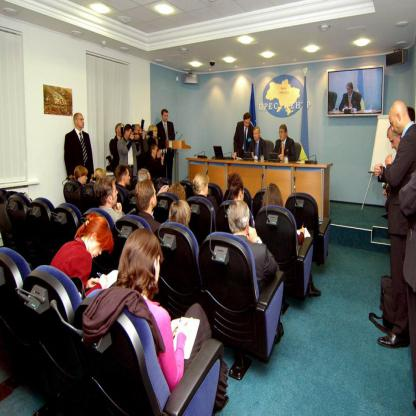face: (145, 251, 161, 288), (89, 238, 106, 259), (390, 113, 401, 135), (390, 134, 401, 152), (110, 185, 119, 206), (151, 186, 158, 207), (124, 171, 131, 186), (82, 172, 89, 185), (78, 115, 85, 128), (204, 183, 210, 198), (280, 129, 286, 142), (120, 126, 126, 137), (254, 130, 260, 141), (245, 118, 251, 129), (155, 147, 160, 157), (128, 129, 133, 139), (164, 113, 169, 122), (348, 86, 353, 95), (153, 129, 158, 138), (137, 128, 141, 137)
